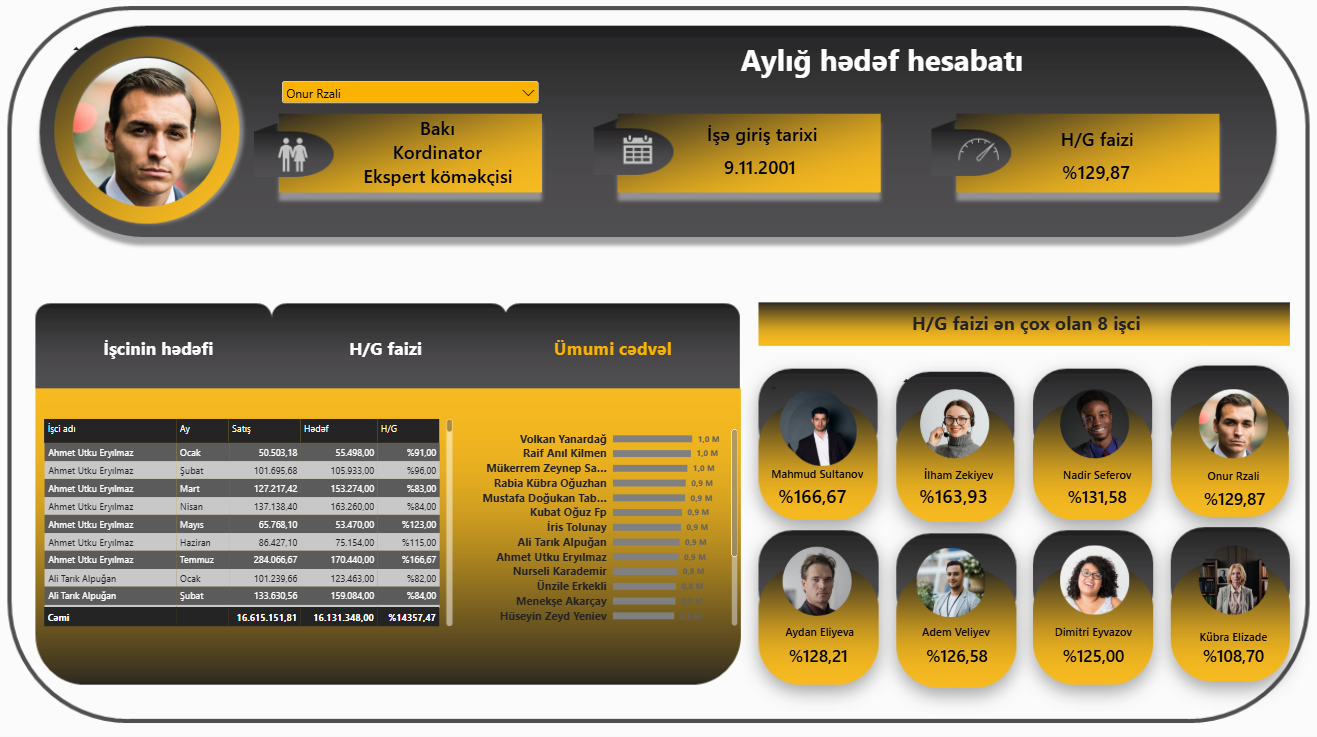

What the dashboard file says about the page in this screenshot:
{"tool":"powerbi","page":{"name":"1. sayfa","canvas":[1920,1080],"ordinal":0},"visuals":[{"type":"slicer","fields":{"Values":["son_dönem.Işci adı"]},"box":[411.7,121.4,380.8,39.1],"z":0},{"type":"tableEx","fields":{"Values":["son_dönem.Foto Url"]},"box":[91.2,39.4,300,300],"z":1000},{"type":"cardVisual","fields":{"Data":["Min(son_dönem.Yer)"]},"box":[489.5,175,304.1,33.3],"z":2000},{"type":"cardVisual","fields":{"Data":["Min(son_dönem.Vezife)"]},"box":[489.5,208.3,304.1,39.6],"z":3000},{"type":"cardVisual","fields":{"Data":["Min(son_dönem.Ünvanı)"]},"box":[490,247.5,302.5,30],"z":4000},{"type":"textbox","box":[960.2,185.4,299.9,39.6],"z":5000},{"type":"cardVisual","fields":{"Data":["Min(son_dönem.İşe giriş vaxtı)"]},"box":[956,229.1,304.1,39.6],"z":6000},{"type":"cardVisual","fields":{"Data":["Sum(son_dönem.H/G)"]},"box":[1442.6,237.5,304.1,39.6],"z":7000},{"type":"textbox","box":[1446.7,191.7,299.9,39.6],"z":8000},{"type":"textbox","box":[1110,457.5,767.5,47.5],"z":9000},{"type":"tableEx","fields":{"Values":["Olculer.Birinci_foto"]},"box":[1090,520,202.5,175],"z":10000},{"type":"cardVisual","fields":{"Data":["Olculer.Birinci_isim"]},"box":[1090,665,202.5,60],"z":11000},{"type":"cardVisual","fields":{"Data":["Olculer.HG"]},"box":[1107.5,705,152.5,40],"z":12000},{"type":"tableEx","fields":{"Values":["Olculer.Birinci_foto"]},"box":[1100,530,202.5,175],"z":13000},{"type":"tableEx","fields":{"Values":["Olculer.Ikinci_foto"]},"box":[1292.5,520,202.5,175],"z":14000},{"type":"cardVisual","fields":{"Data":["Olculer.HG2"]},"box":[1302.5,705,170,40],"z":15000},{"type":"cardVisual","fields":{"Data":["Olculer.2_isim"]},"box":[1310,670,170,50],"z":16000},{"type":"tableEx","fields":{"Values":["Olculer.Ucuncu_foto"]},"box":[1495,520,200,175],"z":17000},{"type":"cardVisual","fields":{"Data":["Olculer.HG3"]},"box":[1517.5,710,155,35],"z":18000},{"type":"cardVisual","fields":{"Data":["Olculer.3_isim"]},"box":[1517.5,670,155,50],"z":19000},{"type":"tableEx","fields":{"Values":["Olculer.dorduncu_foto"]},"box":[1695,520,200,175],"z":20000},{"type":"cardVisual","fields":{"Data":["Olculer.4_isim"]},"box":[1712.5,680,162.5,32.5],"z":21000},{"type":"cardVisual","fields":{"Data":["Olculer.HG4"]},"box":[1725,712.5,140,35],"z":22000},{"type":"tableEx","fields":{"Values":["Olculer.besinci_foto"]},"box":[1092.5,747.5,200,175],"z":23000},{"type":"cardVisual","fields":{"Data":["Olculer.5_isim"]},"box":[1112.5,907.5,162.5,32.5],"z":24000},{"type":"cardVisual","fields":{"Data":["Olculer.HG5"]},"box":[1122.5,940,140,35],"z":25000},{"type":"tableEx","fields":{"Values":["Olculer.altinci_foto"]},"box":[1287.5,750,200,175],"z":26000},{"type":"cardVisual","fields":{"Data":["Olculer.6_isim"]},"box":[1310,907.5,162.5,32.5],"z":27000},{"type":"cardVisual","fields":{"Data":["Olculer.HG6"]},"box":[1322.5,940,140,35],"z":28000},{"type":"tableEx","fields":{"Values":["Olculer.yeddinci_foto"]},"box":[1495,745,200,175],"z":29000},{"type":"cardVisual","fields":{"Data":["Olculer.7_isim"]},"box":[1510,907.5,162.5,32.5],"z":30000},{"type":"cardVisual","fields":{"Data":["Olculer.HG7"]},"box":[1510,940,162.5,35],"z":31000},{"type":"tableEx","fields":{"Values":["Olculer.seggizci_foto"]},"box":[1696,746,200,175],"z":32000},{"type":"cardVisual","fields":{"Data":["Olculer.8_isim"]},"box":[1712,908,162,42],"z":33000},{"type":"cardVisual","fields":{"Data":["Olculer.HG8"]},"box":[1712,940,162.5,35],"z":34000},{"type":"stackedAreaChart","fields":{"Category":["tüm_dönem_hg.Dönem.Varyasyon.Tarih Hiyerarşisi.Ay"],"Y":["Sum(tüm_dönem_hg.H/G)"]},"box":[92,608,958,342],"z":36000},{"type":"bookmarkNavigator","box":[76,482,980,62],"z":39000},{"type":"textbox","box":[872,66,824,74],"z":39001}]}

Visuals, with their boxes in screenshot pixels (x1, y1, x2, y2), scaled from the page's 1920x1080 canvas onto the 1317x737 screenshot:
slicer - son_dönem.Işci adı: locate(282, 83, 544, 110)
tableEx - son_dönem.Foto Url: locate(63, 27, 268, 232)
cardVisual - Min(son_dönem.Yer): locate(336, 119, 544, 142)
cardVisual - Min(son_dönem.Vezife): locate(336, 142, 544, 169)
cardVisual - Min(son_dönem.Ünvanı): locate(336, 169, 544, 189)
textbox: locate(659, 127, 864, 154)
cardVisual - Min(son_dönem.İşe giriş vaxtı): locate(656, 156, 864, 183)
cardVisual - Sum(son_dönem.H/G): locate(990, 162, 1198, 189)
textbox: locate(992, 131, 1198, 158)
textbox: locate(761, 312, 1288, 345)
tableEx - Olculer.Birinci_foto: locate(748, 355, 887, 474)
cardVisual - Olculer.Birinci_isim: locate(748, 454, 887, 495)
cardVisual - Olculer.HG: locate(760, 481, 864, 508)
tableEx - Olculer.Birinci_foto: locate(755, 362, 893, 481)
tableEx - Olculer.Ikinci_foto: locate(887, 355, 1025, 474)
cardVisual - Olculer.HG2: locate(893, 481, 1010, 508)
cardVisual - Olculer.2_isim: locate(899, 457, 1015, 491)
tableEx - Olculer.Ucuncu_foto: locate(1025, 355, 1163, 474)
cardVisual - Olculer.HG3: locate(1041, 485, 1147, 508)
cardVisual - Olculer.3_isim: locate(1041, 457, 1147, 491)
tableEx - Olculer.dorduncu_foto: locate(1163, 355, 1300, 474)
cardVisual - Olculer.4_isim: locate(1175, 464, 1286, 486)
cardVisual - Olculer.HG4: locate(1183, 486, 1279, 510)
tableEx - Olculer.besinci_foto: locate(749, 510, 887, 630)
cardVisual - Olculer.5_isim: locate(763, 619, 875, 641)
cardVisual - Olculer.HG5: locate(770, 641, 866, 665)
tableEx - Olculer.altinci_foto: locate(883, 512, 1020, 631)
cardVisual - Olculer.6_isim: locate(899, 619, 1010, 641)
cardVisual - Olculer.HG6: locate(907, 641, 1003, 665)
tableEx - Olculer.yeddinci_foto: locate(1025, 508, 1163, 628)
cardVisual - Olculer.7_isim: locate(1036, 619, 1147, 641)
cardVisual - Olculer.HG7: locate(1036, 641, 1147, 665)
tableEx - Olculer.seggizci_foto: locate(1163, 509, 1301, 628)
cardVisual - Olculer.8_isim: locate(1174, 620, 1285, 648)
cardVisual - Olculer.HG8: locate(1174, 641, 1286, 665)
stackedAreaChart - tüm_dönem_hg.Dönem.Varyasyon.Tarih Hiyerarşisi.Ay x Sum(tüm_dönem_hg.H/G): locate(63, 415, 720, 648)
bookmarkNavigator: locate(52, 329, 724, 371)
textbox: locate(598, 45, 1163, 96)
